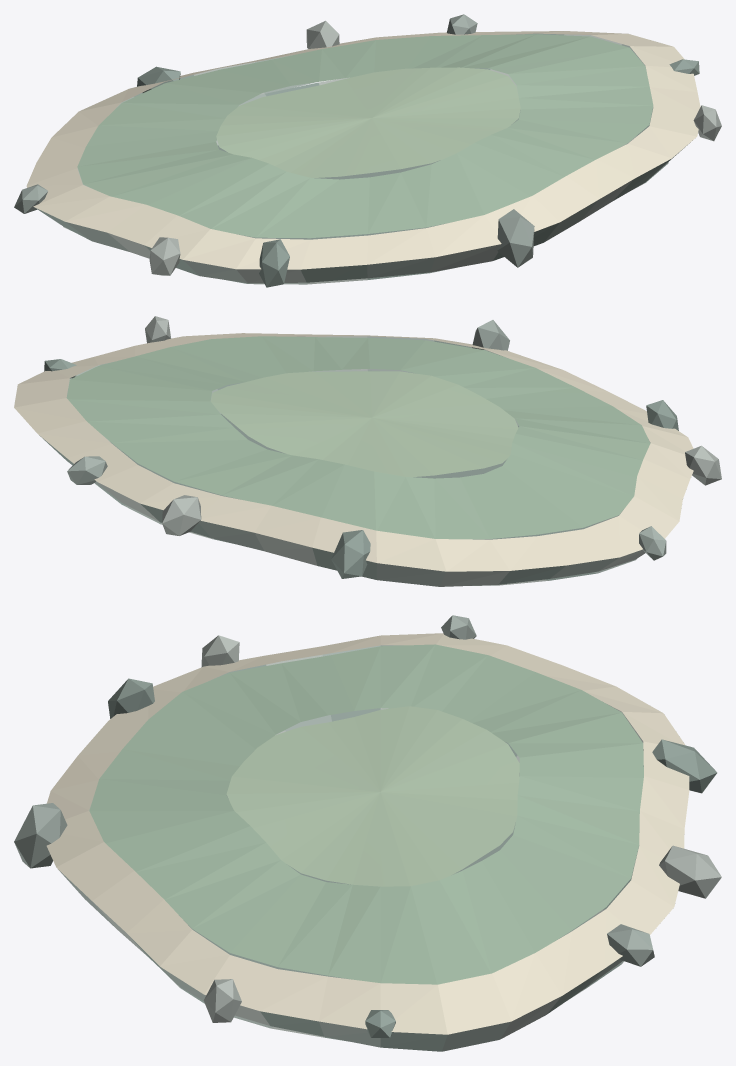
The model's file is island_base.glb.
3 renders of one model, top to bottom at view 1: azimuth 30°, elevation 25°; view 2: azimuth 150°, elevation 25°; view 3: azimuth 270°, elevation 25°, orthographic. The views are drawn at different scales.
Visible parts, largest first — view 1: LF_IslandGrass_Mesh, LF_IslandSandLight_Mesh, LF_IslandGrassLight_Mesh, LF_IslandRock_Mesh, LF_IslandRockDark_Mesh, LF_IslandRockLight_Mesh; view 2: LF_IslandGrass_Mesh, LF_IslandSandLight_Mesh, LF_IslandGrassLight_Mesh, LF_IslandRock_Mesh, LF_IslandRockLight_Mesh, LF_IslandRockDark_Mesh; view 3: LF_IslandGrass_Mesh, LF_IslandSandLight_Mesh, LF_IslandGrassLight_Mesh, LF_IslandRockDark_Mesh, LF_IslandRock_Mesh, LF_IslandRockLight_Mesh.
Boxes of the visible parts, x1,y1,x2,y2 form: LF_IslandGrass_Mesh: (77,34,653,238); LF_IslandSandLight_Mesh: (26,31,700,269); LF_IslandGrassLight_Mesh: (216,67,520,177); LF_IslandRock_Mesh: (14,14,692,284); LF_IslandRockDark_Mesh: (34,33,699,287); LF_IslandRockLight_Mesh: (63,20,721,284); LF_IslandGrass_Mesh: (67,336,650,539); LF_IslandSandLight_Mesh: (14,333,693,571); LF_IslandGrassLight_Mesh: (210,371,518,477); LF_IslandRock_Mesh: (67,320,666,586); LF_IslandRockLight_Mesh: (98,316,721,586); LF_IslandRockDark_Mesh: (39,336,678,584); LF_IslandGrass_Mesh: (89,644,643,984); LF_IslandSandLight_Mesh: (46,633,689,1034); LF_IslandGrassLight_Mesh: (226,706,519,886); LF_IslandRockDark_Mesh: (108,645,717,1051); LF_IslandRock_Mesh: (14,615,654,1051); LF_IslandRockLight_Mesh: (92,635,721,1039).
Bounding box in the file's own units: 3.48 × 0.371 × 2.53.
